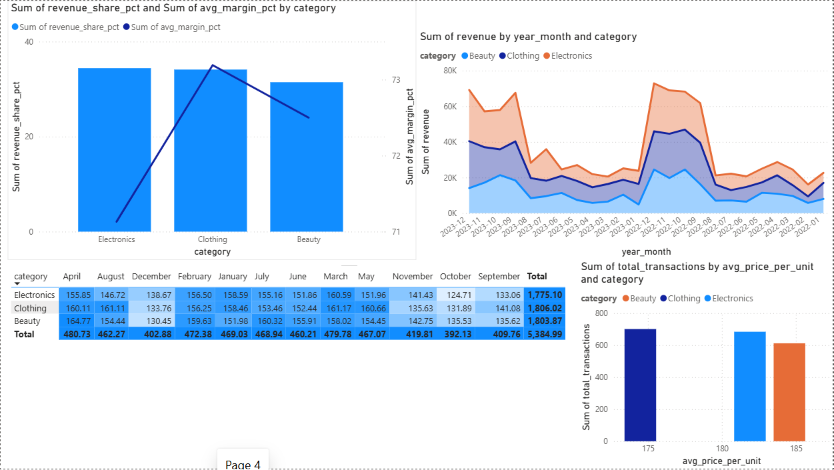

The dashboard page shown, as its layout file describes it:
{"tool":"powerbi","page":{"name":"Page 4","canvas":[1280,720],"ordinal":3},"visuals":[{"type":"lineClusteredColumnComboChart","fields":{"Y":["Sum(public vw_category_performance.revenue_share_pct)"],"Y2":["Sum(public vw_category_performance.avg_margin_pct)"],"Category":["public vw_category_performance.category"]},"box":[10,0,630,398],"z":0},{"type":"stackedAreaChart","fields":{"Category":["public vw_category_monthly_trend.year_month"],"Y":["Sum(public vw_category_monthly_trend.revenue)"],"Series":["public vw_category_monthly_trend.category"]},"box":[640,44,640,354],"z":1000},{"type":"pivotTable","fields":{"Rows":["public vw_profitability_heatmap.category"],"Columns":["public vw_profitability_heatmap.month_name"],"Values":["Sum(public vw_profitability_heatmap.margin_pct)"]},"box":[10,408,882,312],"z":2000},{"type":"columnChart","fields":{"Category":["public vw_category_performance.avg_price_per_unit"],"Y":["Sum(public vw_category_performance.total_transactions)"],"Series":["public vw_category_performance.category"]},"box":[888,398,392,322],"z":3000}]}

Visuals, with their boxes in screenshot pixels (x1, y1, x2, y2), scaled from the page's 1280x720 canvas onto the 834x470 screenshot:
lineClusteredColumnComboChart - Sum(public vw_category_performance.revenue_share_pct) x Sum(public vw_category_performance.avg_margin_pct): rect(7, 0, 417, 260)
stackedAreaChart - public vw_category_monthly_trend.year_month x Sum(public vw_category_monthly_trend.revenue): rect(417, 29, 833, 260)
pivotTable - public vw_profitability_heatmap.category x public vw_profitability_heatmap.month_name: rect(7, 266, 581, 469)
columnChart - public vw_category_performance.avg_price_per_unit x Sum(public vw_category_performance.total_transactions): rect(579, 260, 833, 469)
